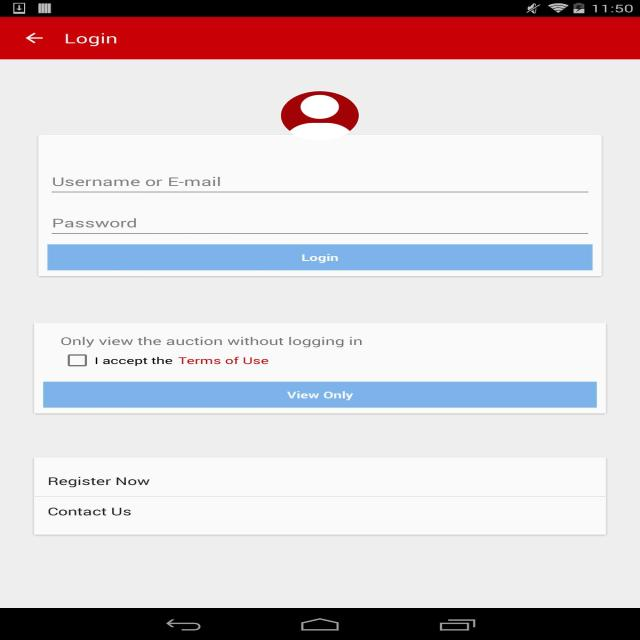button: (36, 496, 607, 532), (36, 460, 605, 494), (48, 242, 594, 272), (41, 381, 600, 408), (59, 351, 94, 370), (20, 29, 50, 51)
field: (40, 195, 593, 234), (48, 161, 593, 194)
heading: (57, 30, 126, 50)
image: (266, 90, 368, 135)
label: (51, 167, 234, 190), (44, 211, 143, 229)
link: (170, 352, 280, 366)
text: (57, 335, 366, 349), (95, 350, 284, 369)
